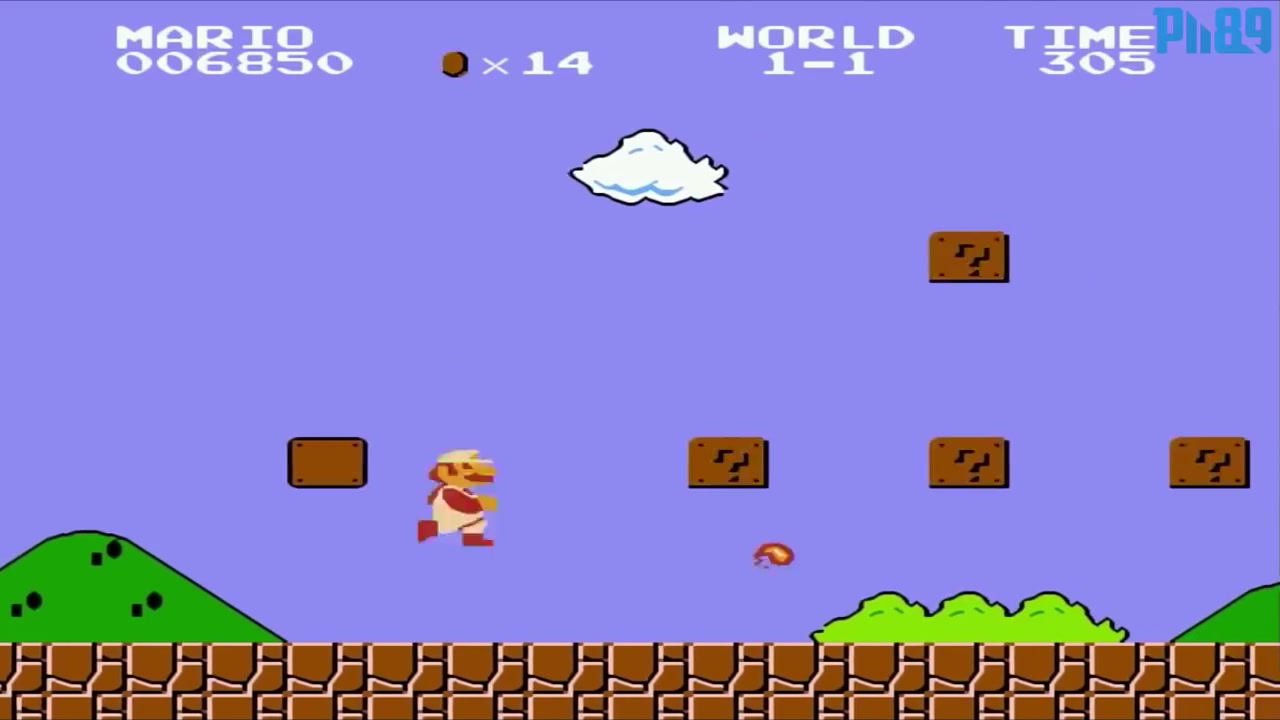mario: (406, 440, 505, 553)
